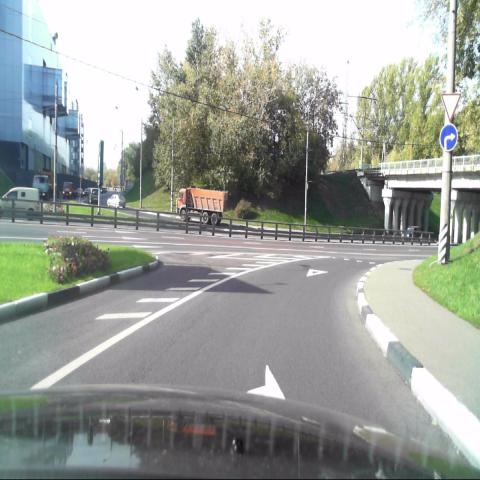4_1_2: (439, 121, 458, 155)
